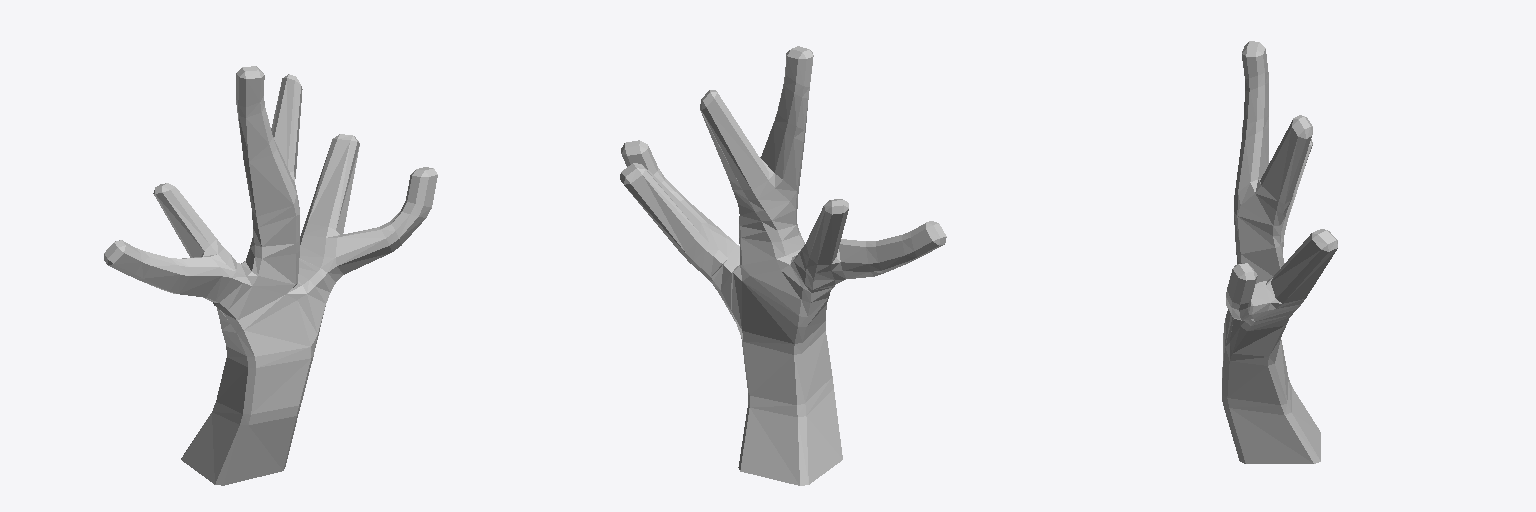
Rendered from DeadTree_1.obj.
The picture shows the model from 3 angles: view 1: azimuth 30°, elevation 25°; view 2: azimuth 150°, elevation 25°; view 3: azimuth 270°, elevation 25°; orthographic projection.
Visible parts, largest first — view 1: DeadTree_1_Cube.535; view 2: DeadTree_1_Cube.535; view 3: DeadTree_1_Cube.535.
Boxes of the visible parts, <box> form: DeadTree_1_Cube.535: <box>104,66,437,485</box>; DeadTree_1_Cube.535: <box>620,46,946,485</box>; DeadTree_1_Cube.535: <box>1222,41,1337,463</box>.
Size of the model in its own units: 4.22 by 4.99 by 1.31.